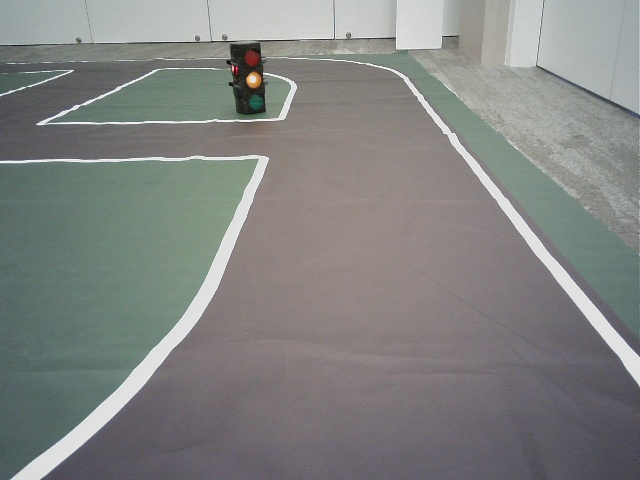yellow: (238, 44, 265, 111)
